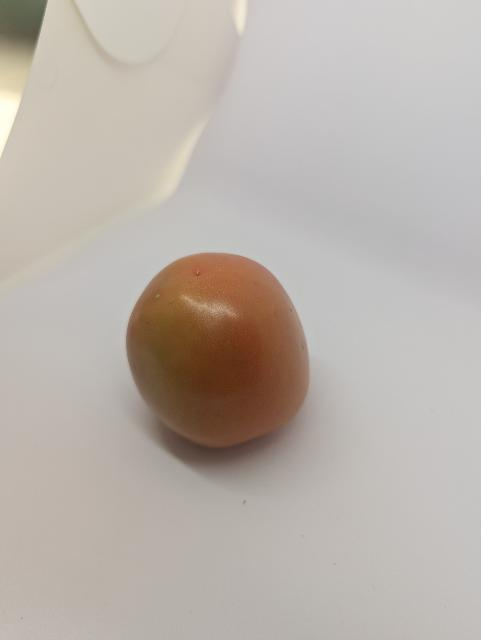turning: (120, 247, 314, 452)
